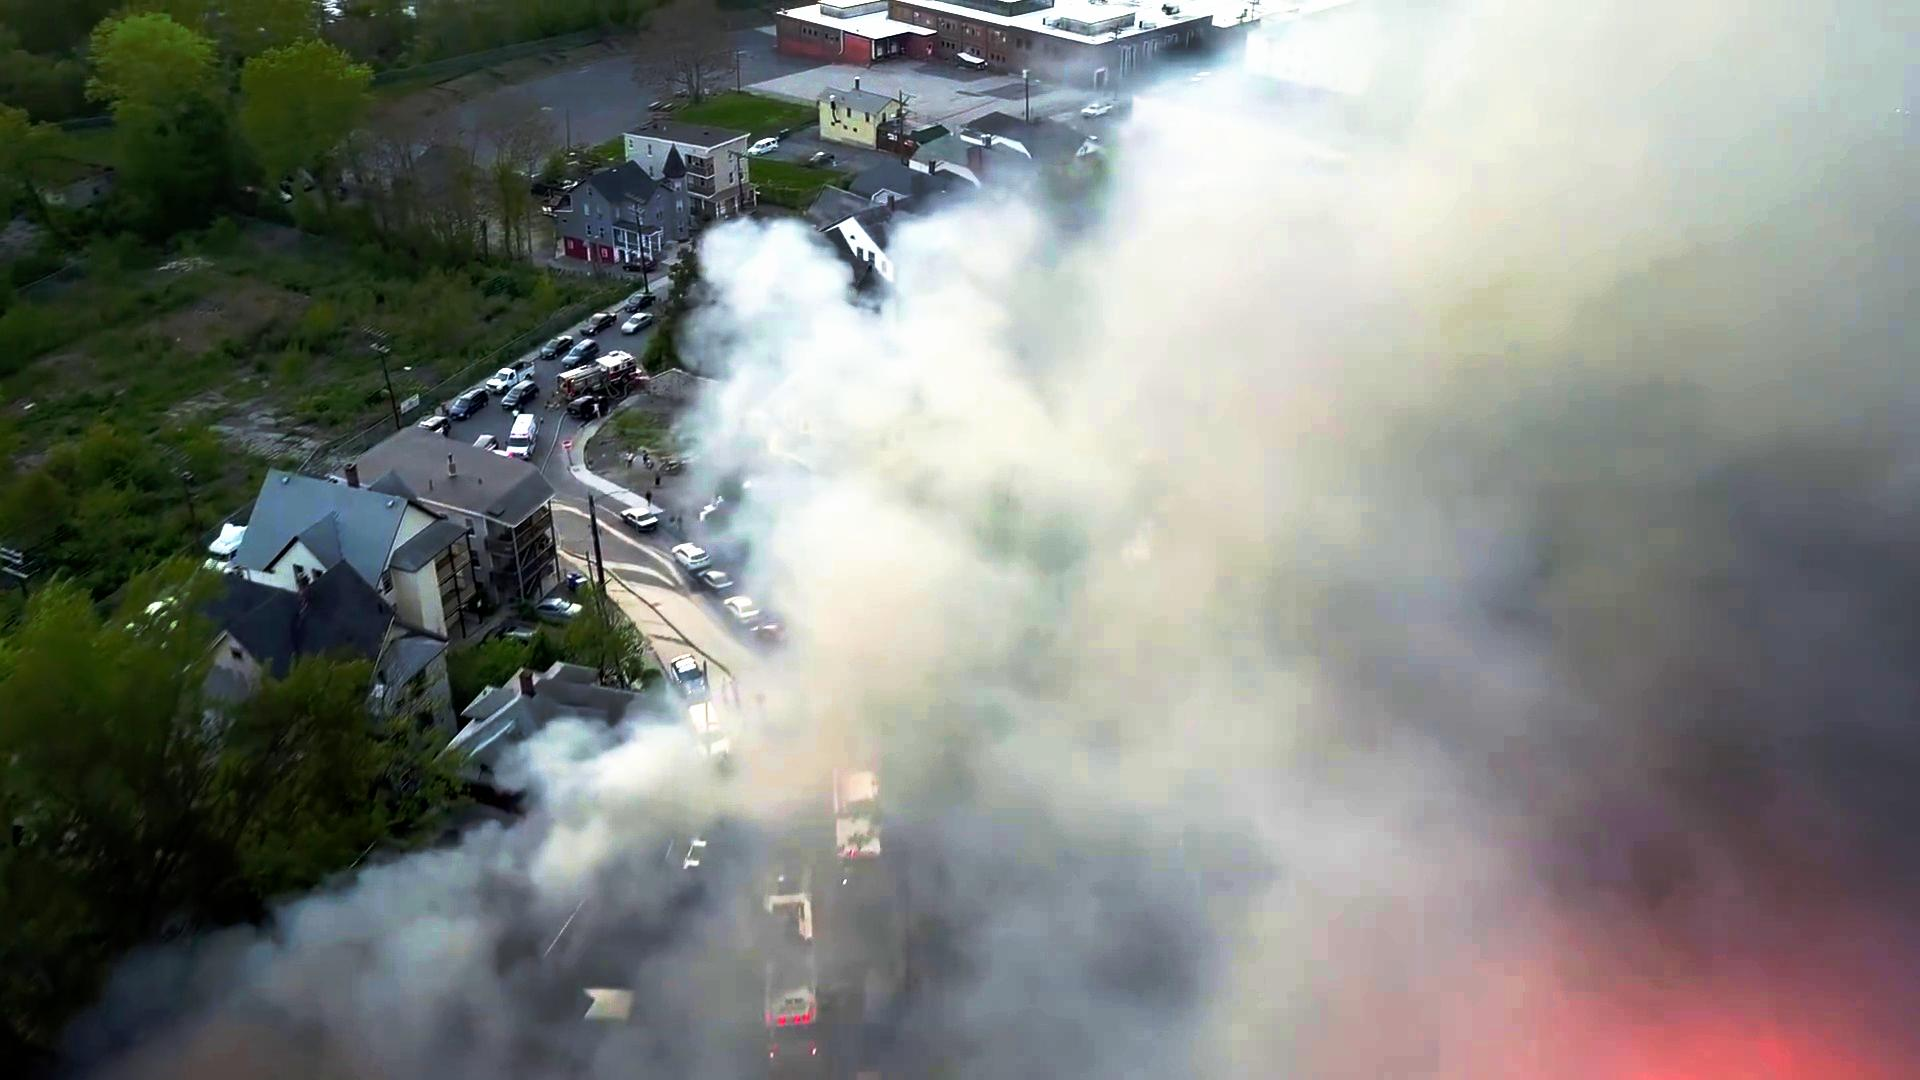smoke: (1308, 66, 1920, 1080)
